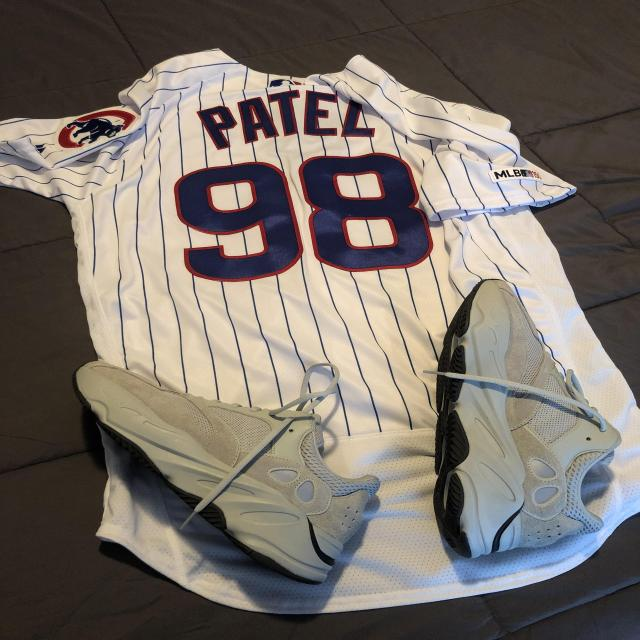shoe: (49, 259, 363, 549), (397, 246, 622, 584)
